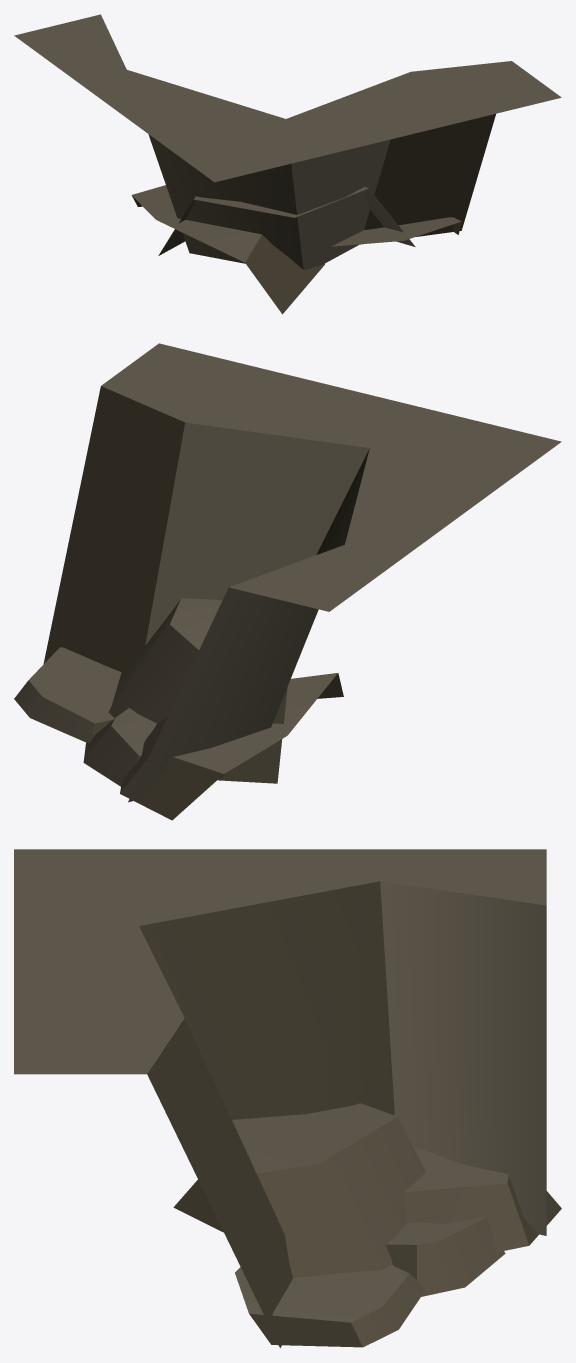
File: SF_Env_RockEdge_Corner_01.fbx
3 renders of one model, top to bottom at view 1: azimuth 30°, elevation 25°; view 2: azimuth 150°, elevation 25°; view 3: azimuth 270°, elevation 25°, orthographic. The views are drawn at different scales.
Visible parts, largest first — view 1: SF_Env_RockEdge_Corner_01; view 2: SF_Env_RockEdge_Corner_01; view 3: SF_Env_RockEdge_Corner_01.
Part boxes in pixels (<box>): SF_Env_RockEdge_Corner_01: <box>14,14,561,314</box>; SF_Env_RockEdge_Corner_01: <box>14,343,561,820</box>; SF_Env_RockEdge_Corner_01: <box>14,849,561,1348</box>.
Bounding box in the file's own units: 10 × 5.82 × 10.29.
